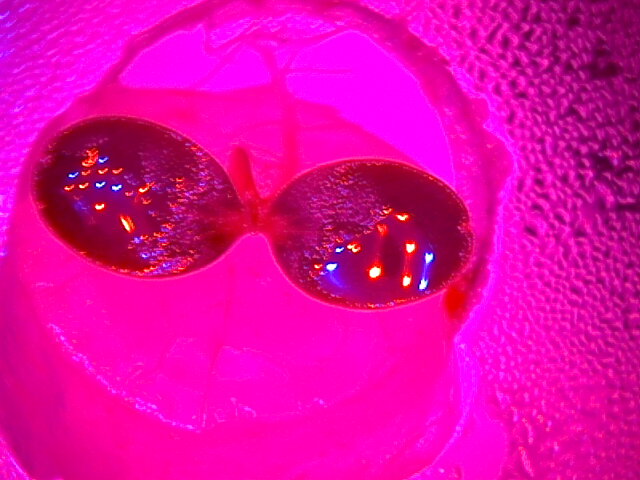seedling: (28, 127, 484, 330)
